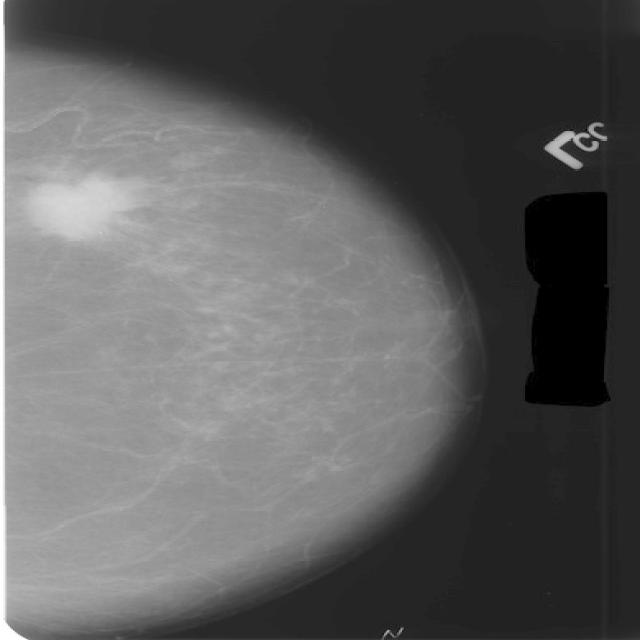tumour: (27, 177, 150, 240)
